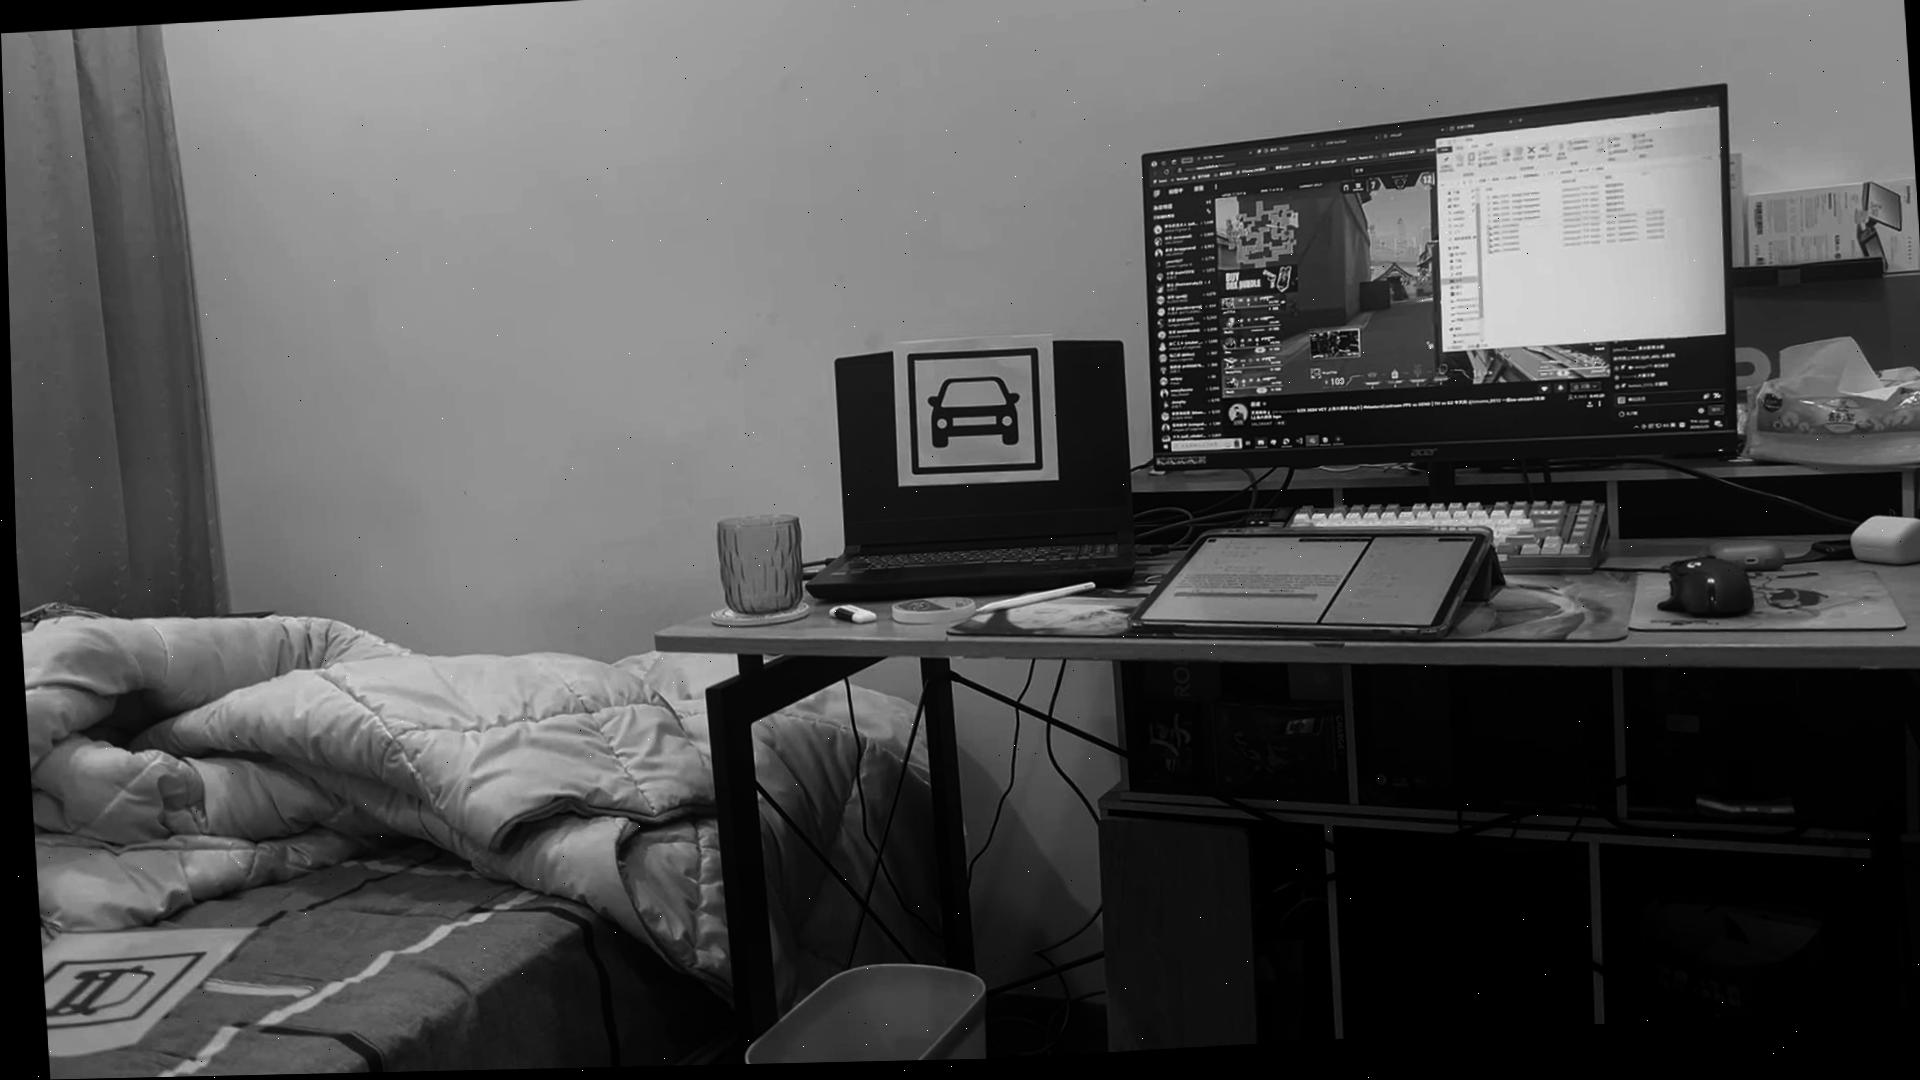car_img: (901, 349, 1044, 483)
